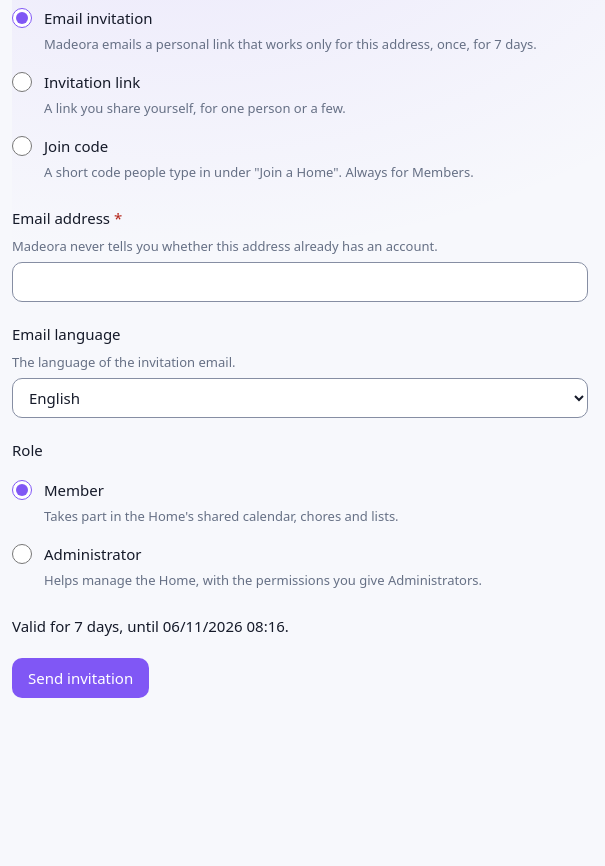
Test: InviteForm › creates a multi-use link and shows it to copy
Step 1. Click the radio button labelled "Invitation link" → (22, 82), box x1=12 y1=72 x2=32 y2=92
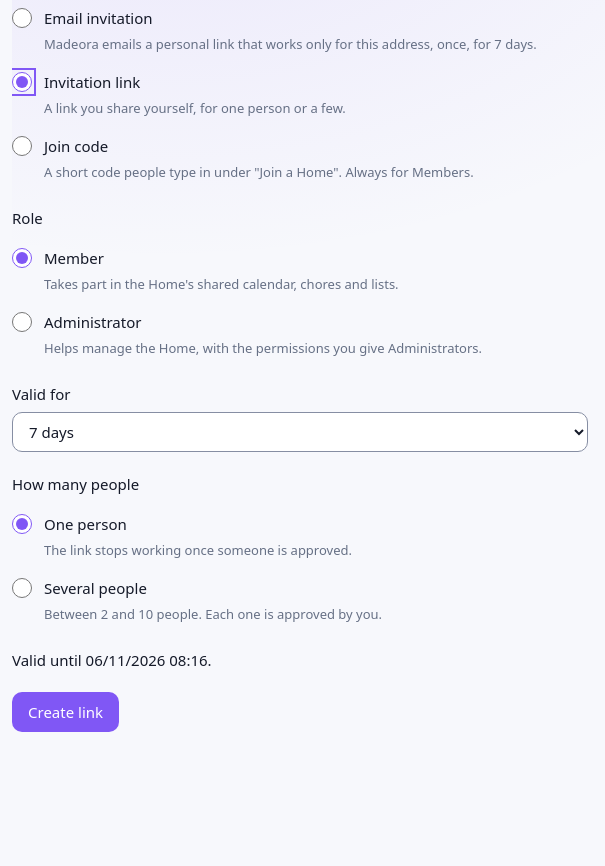
Step 2. Select "24 hours" in the dropdown labelled "Valid for" → (300, 432), box x1=12 y1=412 x2=588 y2=452
Step 3. Click the radio button labelled "Several people" → (22, 588), box x1=12 y1=578 x2=32 y2=598
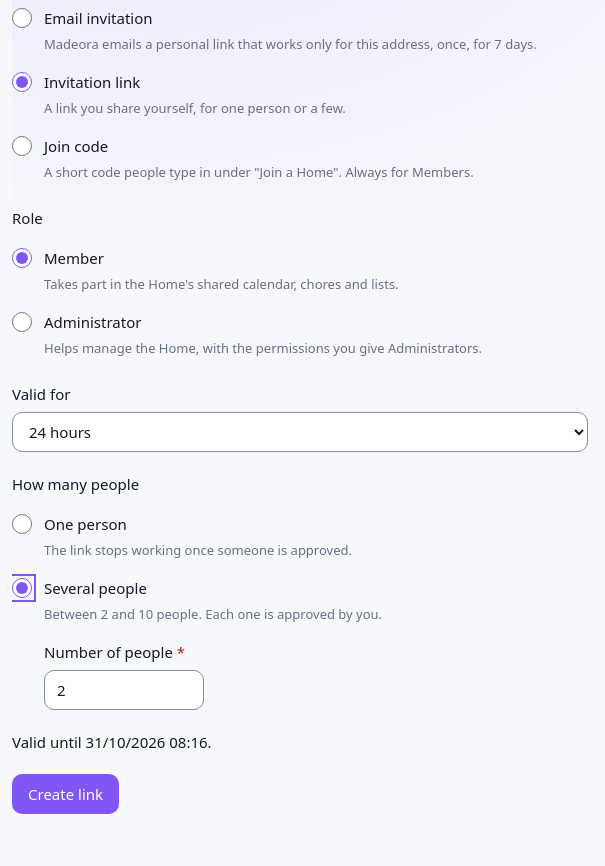
Step 4. Replace the text in the number field labelled "Number of people *" with "11" → (124, 690), box x1=44 y1=670 x2=204 y2=710
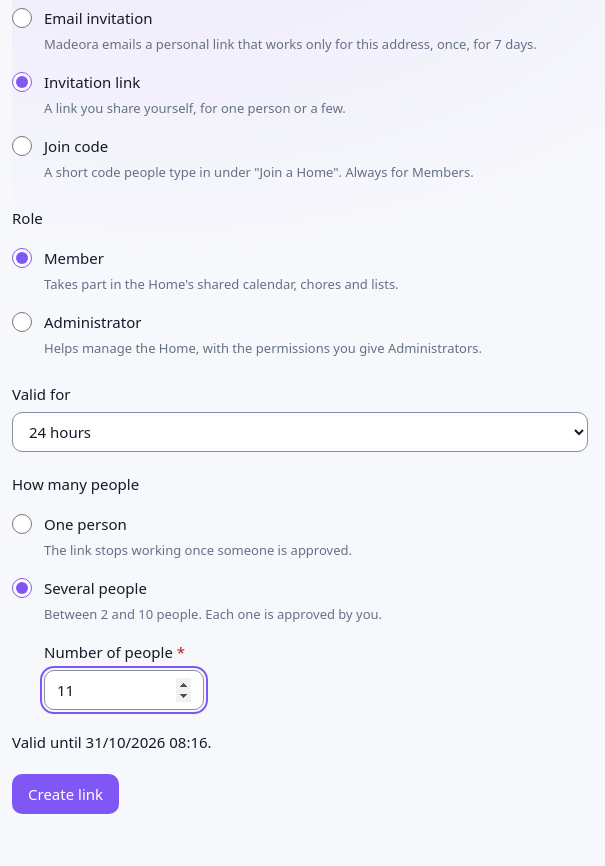
Step 5. Click the button "Create link" → (66, 794), box x1=12 y1=774 x2=119 y2=814
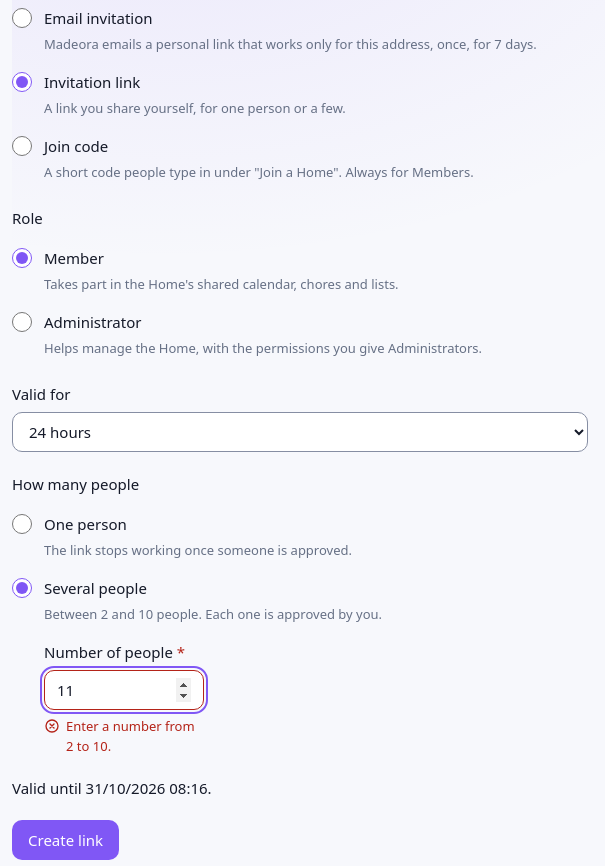
Expected: the text "Enter a number from 2 to 10." is shown, x1=66 y1=716 x2=204 y2=756
Step 6. Replace the text in the number field labelled "Number of people *" with "4" → (124, 690), box x1=44 y1=670 x2=204 y2=710
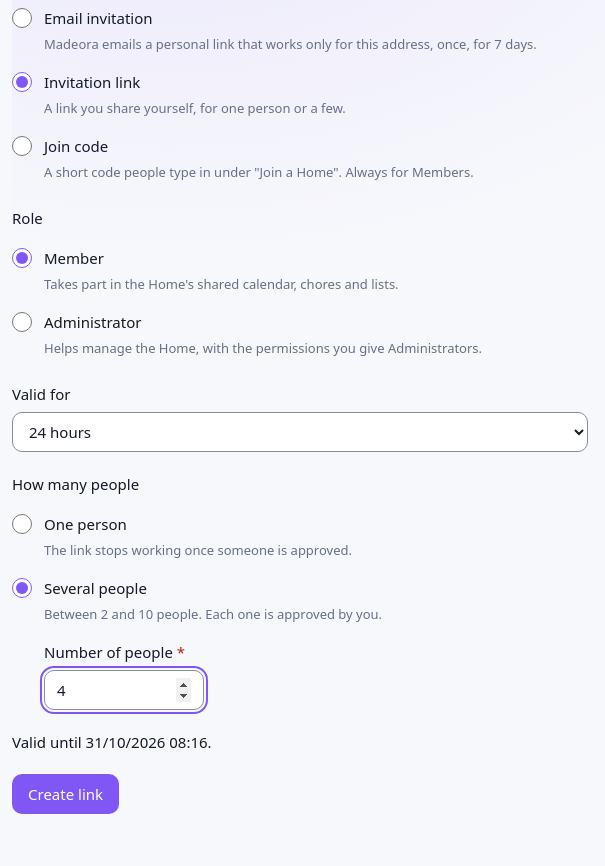
Step 7. Click the button "Create link" → (66, 794), box x1=12 y1=774 x2=119 y2=814
(page scrolled)
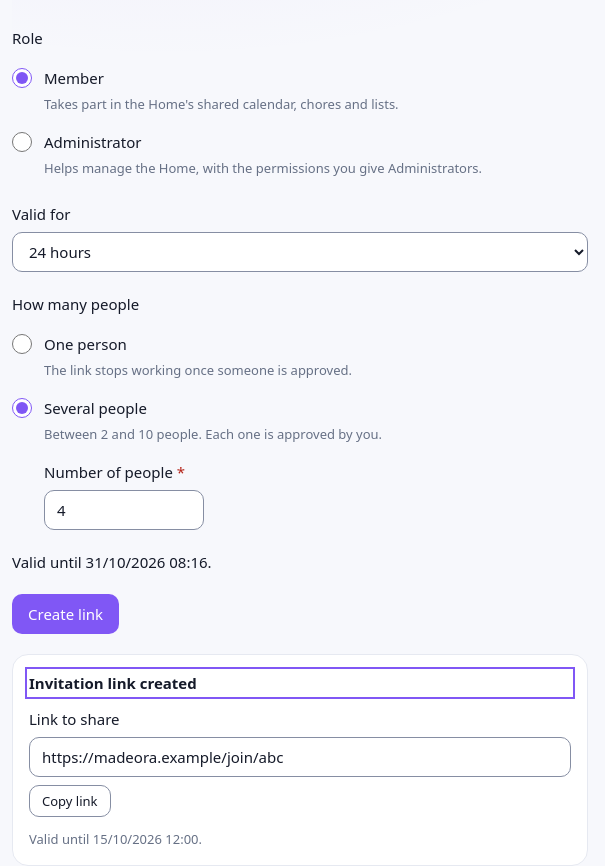
Expected: the heading "Invitation link created" is shown, x1=29 y1=673 x2=197 y2=693
Expected: the field labelled "Link to share" holds "https://madeora.example/join/abc", x1=29 y1=737 x2=571 y2=777
